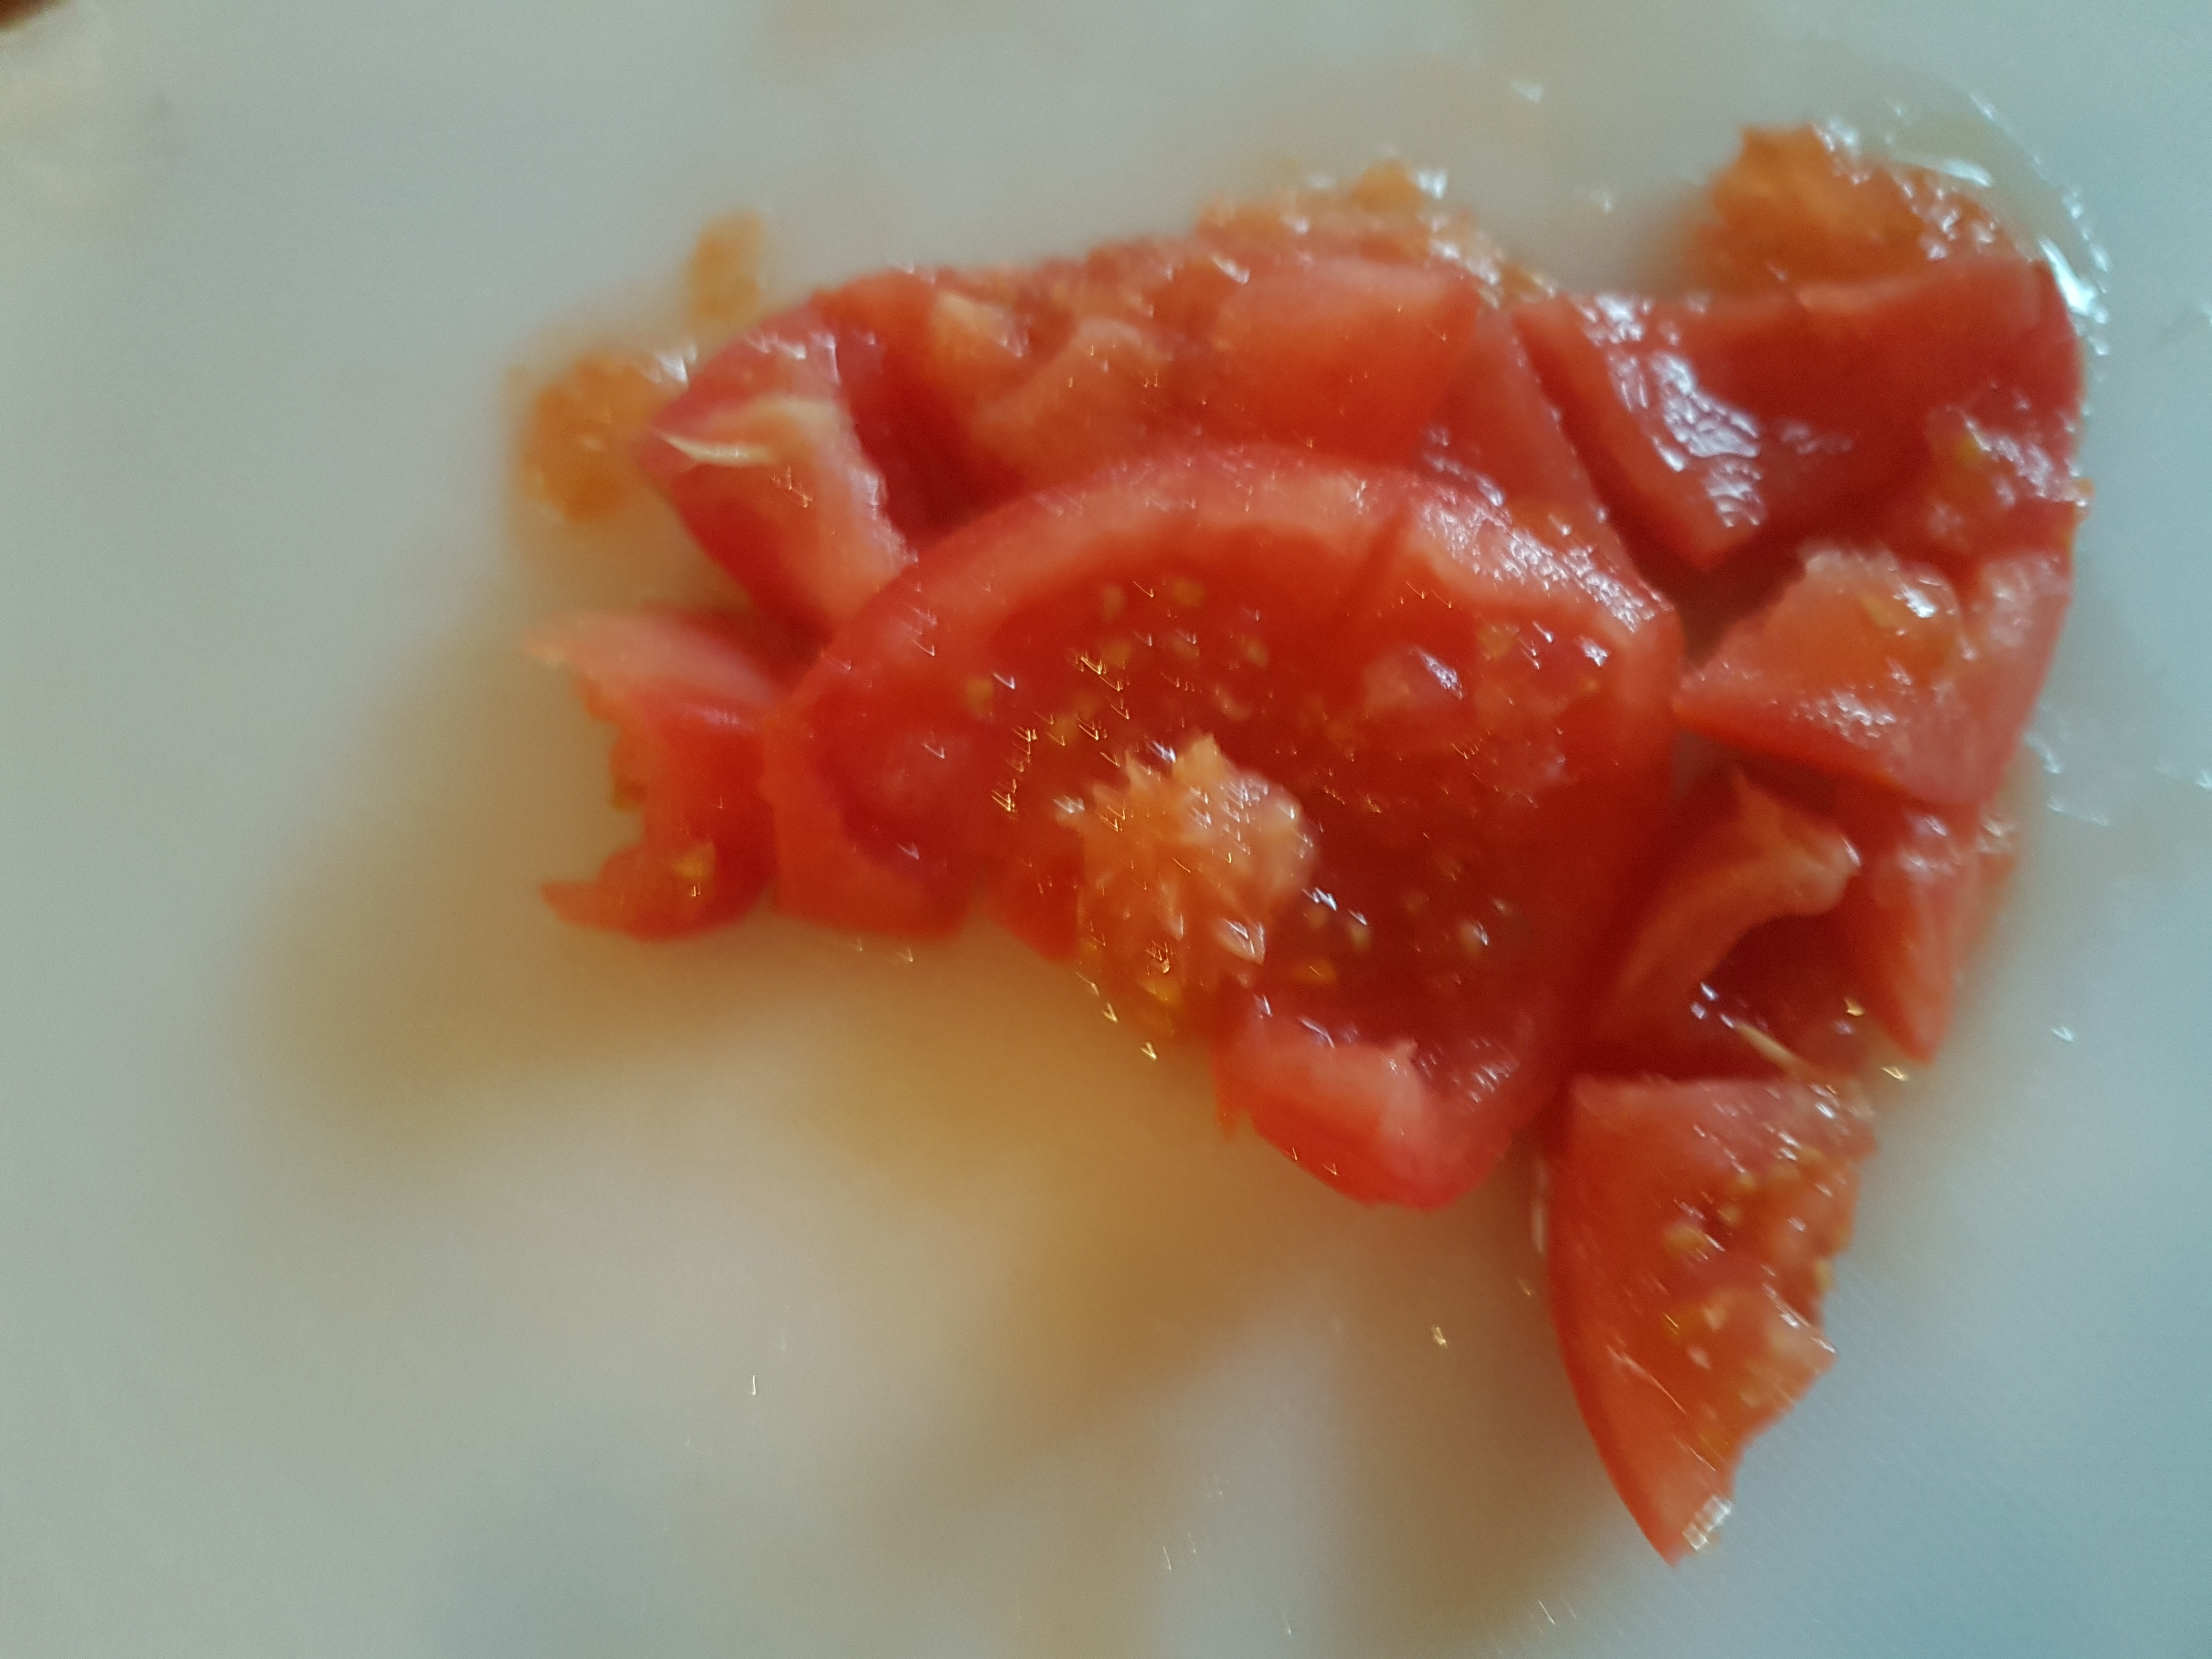Tomato: (247, 132, 2174, 1610)
